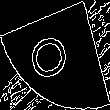O_E: (30, 26, 80, 84)
